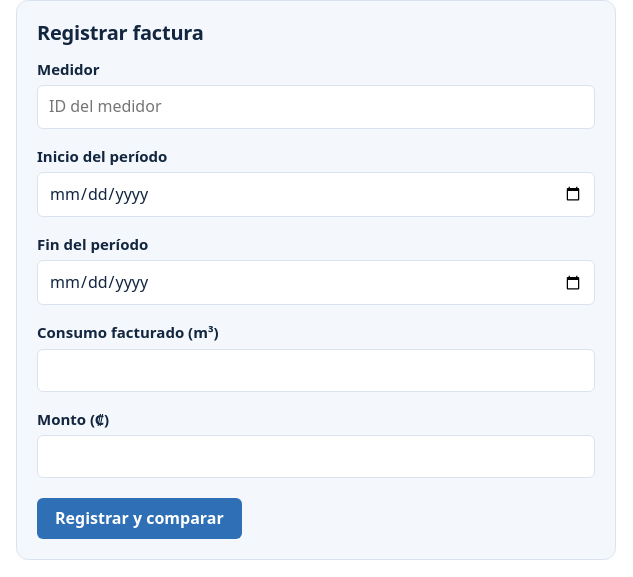
Test: PantallaFactura › avisa cuando la diferencia supera el umbral
This screenshot has width=633, height=577.
Type "medidor-1" into the field labelled "Medidor". click: [316, 107]
box: [37, 85, 595, 129]
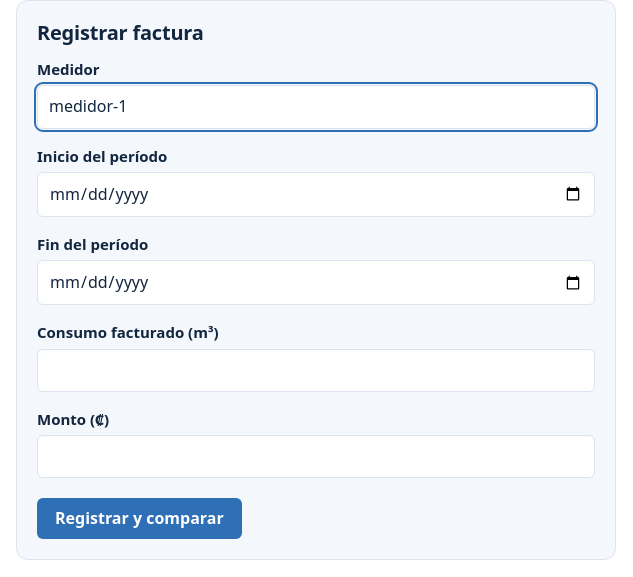
Type "2026-07-01" into the date field labelled "Inicio del período". click: [316, 194]
box: [37, 172, 595, 217]
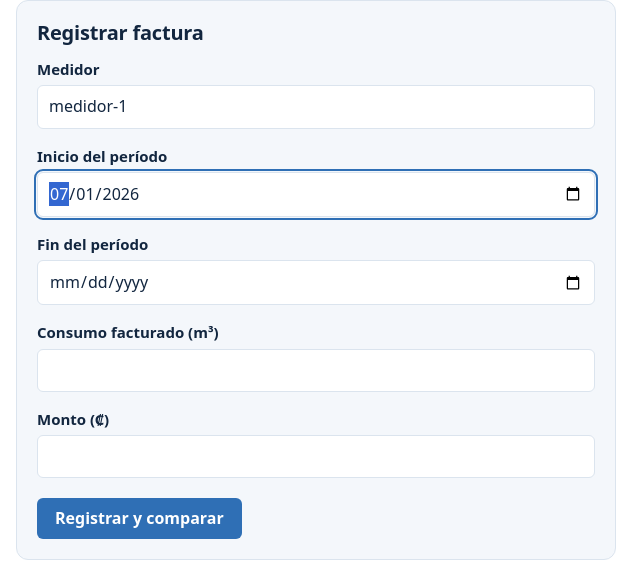
Type "2026-08-01" into the date field labelled "Fin del período". click: [316, 283]
box: [37, 260, 595, 305]
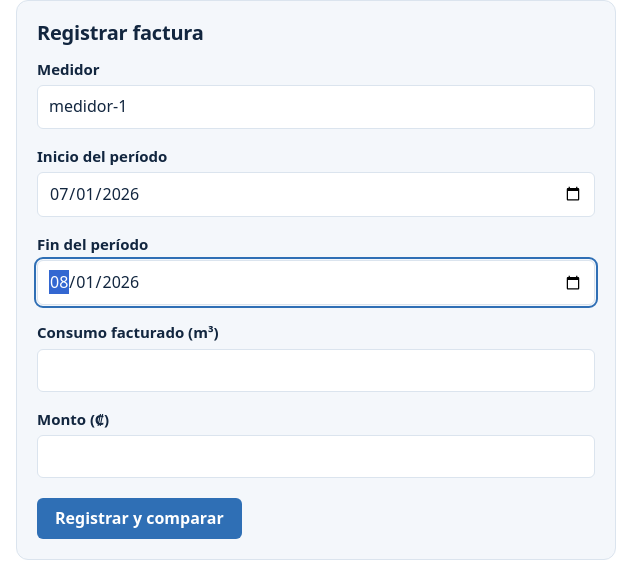
Type "14" into the field labelled "Consumo facturado (m³)". click: [316, 370]
box: [37, 349, 595, 392]
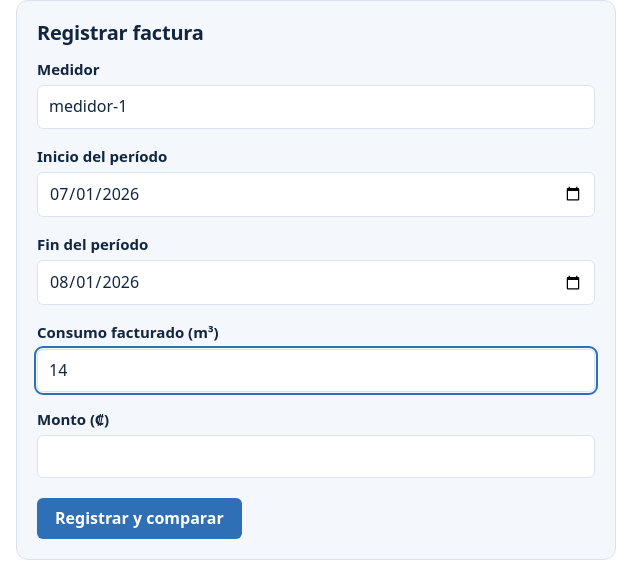
Type "8250" into the field labelled "Monto (₡)". click: [316, 457]
box: [37, 435, 595, 478]
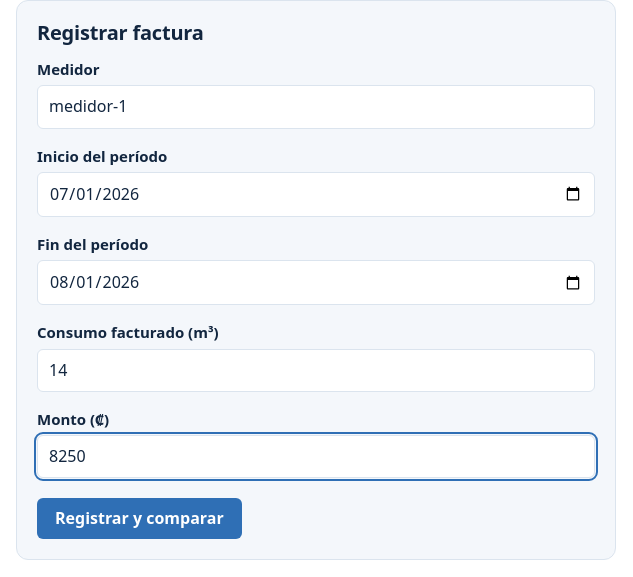
Click the button "Registrar y comparar". click: [139, 519]
box: [37, 498, 242, 539]
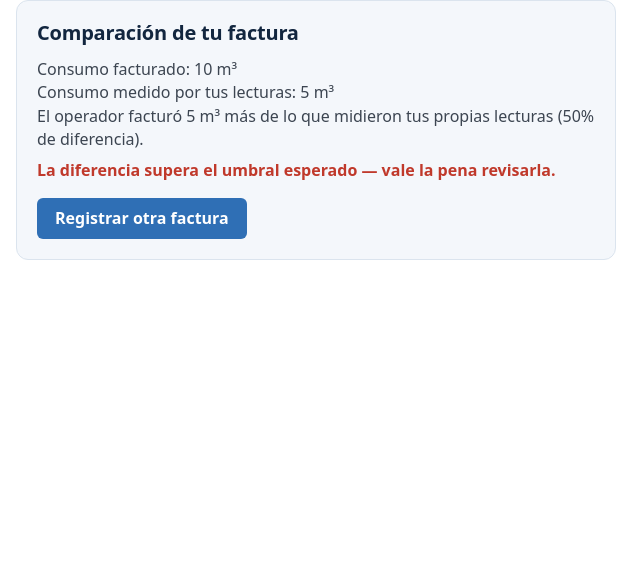
Now the text "La diferencia supera el umbral esperado — vale la pena revisarla." is shown, box [37, 159, 595, 182]
